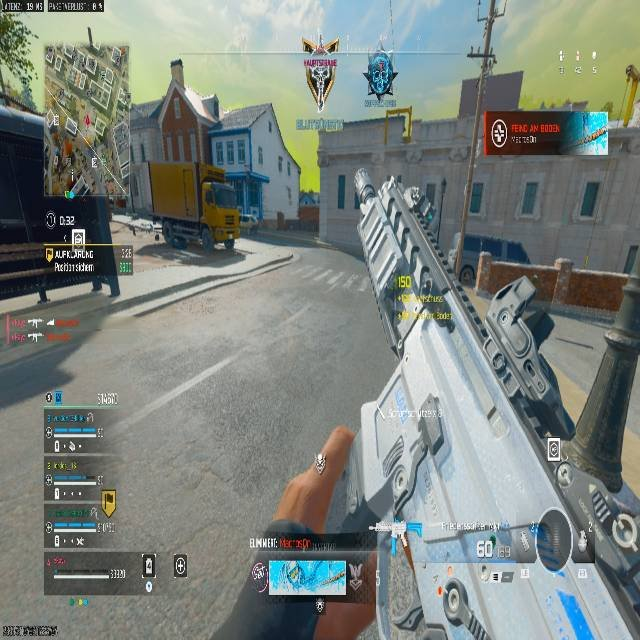player: (365, 55, 397, 103)
